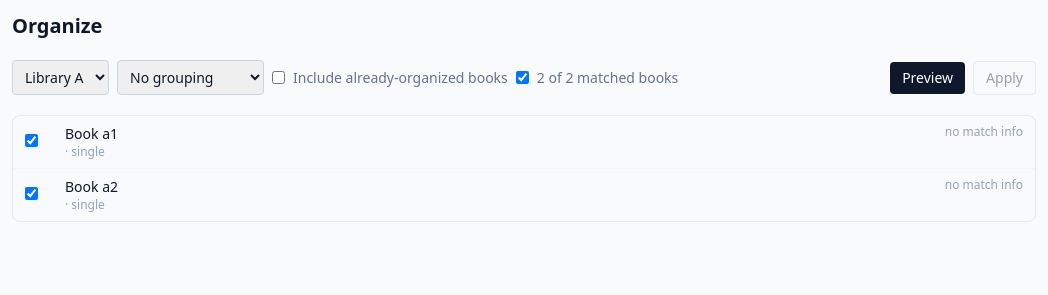
Scenario: OrganizePage library switching › preserves the user's selection across a reload (e.g. after Apply)
Check: the text "2 of 2 matched books" is shown, box [537,68,678,88]
What coordinates should you click on to do the following:
click the checkbox named "select book a1"
I would click on:
 (32, 140)
Its box is [25,134,38,147].
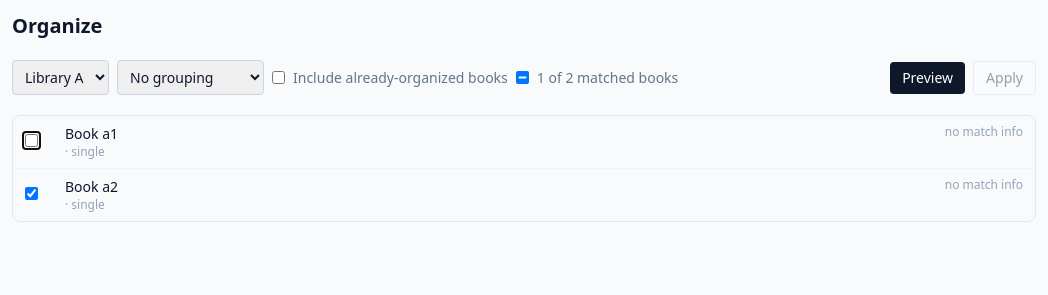
Check: the text "1 of 2 matched books" is shown, box [537,68,678,88]
What coordinates should you click on to do the following:
click the button "Preview"
I would click on:
 (928, 78)
Its box is [890,62,965,94].
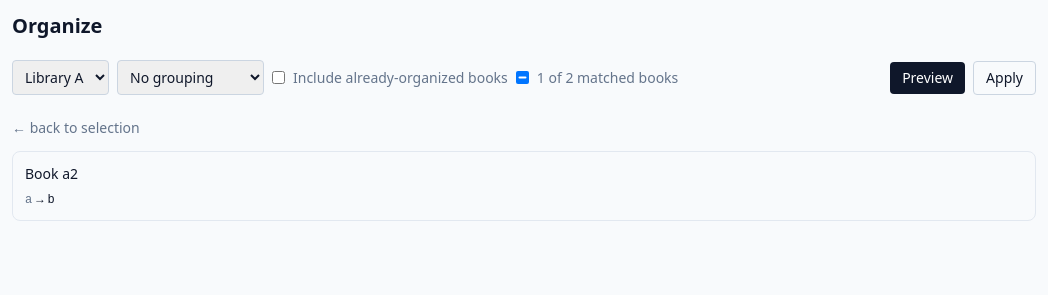
What coordinates should you click on to do the following:
click the button "Apply"
I would click on:
 (1005, 78)
Its box is [973,60,1036,94].
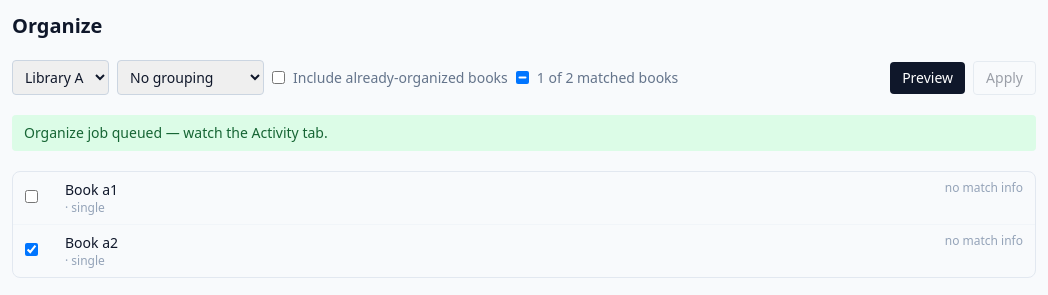
Check: the text "Organize job queued — watch the Activity tab." is shown, box [12,115,1036,151]
Check: the checkbox named "select book a1" is not checked, box [25,190,38,203]
Check: the checkbox named "select book a2" is checked, box [25,243,38,256]
